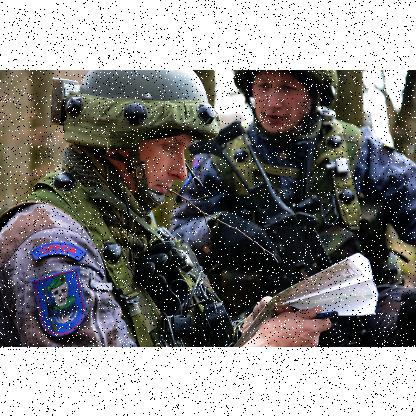gun: (187, 121, 373, 341)
